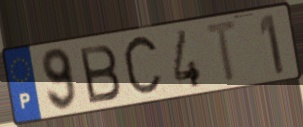1: (257, 11, 286, 78)
4: (171, 28, 204, 91)
9: (41, 46, 80, 115)
B: (76, 42, 123, 106)
C: (120, 32, 165, 102)
T: (203, 17, 242, 86)
